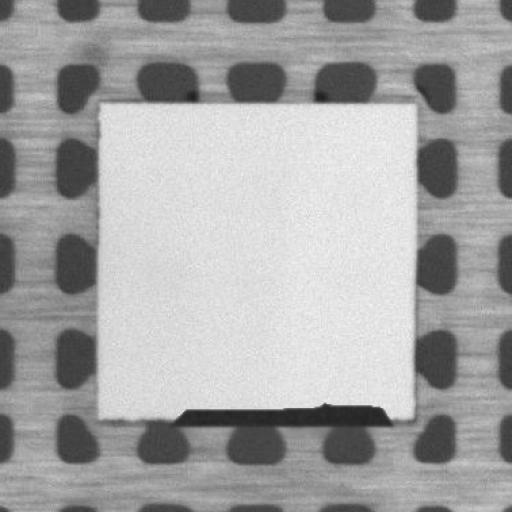DIE_BROKEN: (168, 400, 394, 427)
